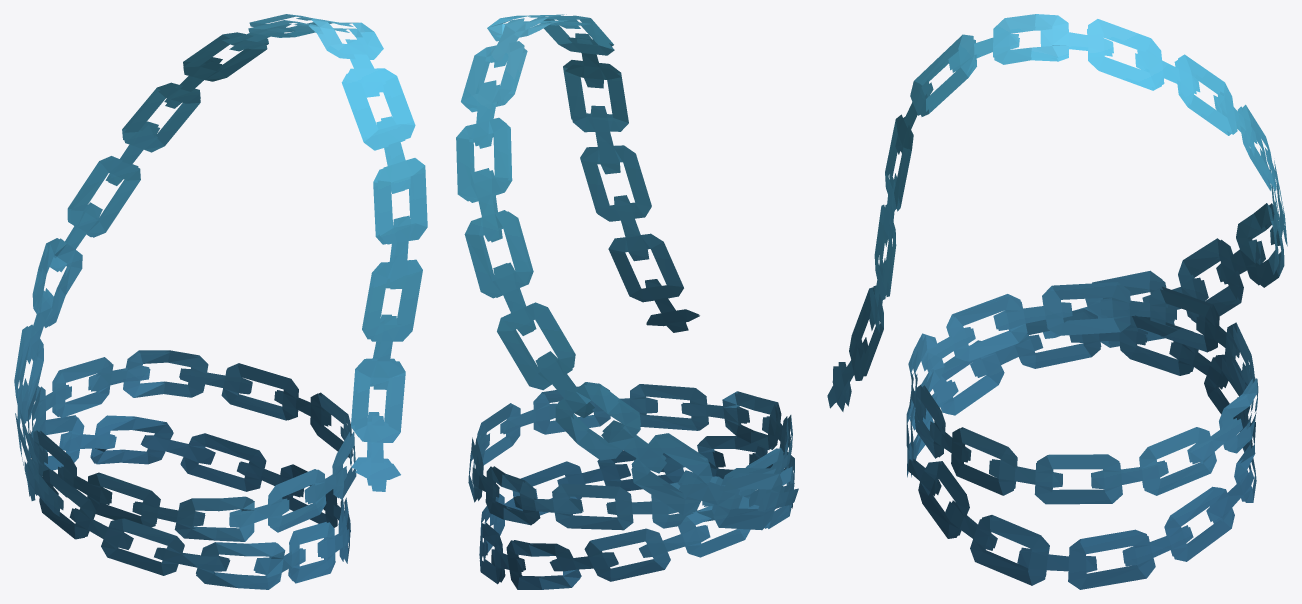
File: CharSkyNPC_Horn_StrongLaborChains.glb
The picture shows the model from 3 angles, left to right: view 1: azimuth 30°, elevation 25°; view 2: azimuth 150°, elevation 25°; view 3: azimuth 270°, elevation 25°; orthographic projection. The views are drawn at different scales.
Visible parts, largest first — view 1: CharSkyNPC_Horn_StrongLaborChains; view 2: CharSkyNPC_Horn_StrongLaborChains; view 3: CharSkyNPC_Horn_StrongLaborChains.
Boxes of the visible parts, x1,y1,x2,y2 form: CharSkyNPC_Horn_StrongLaborChains: [14, 14, 427, 589]; CharSkyNPC_Horn_StrongLaborChains: [456, 14, 798, 589]; CharSkyNPC_Horn_StrongLaborChains: [827, 14, 1287, 589].
Bounding box in the file's own units: 4.12 × 6.54 × 4.88.
Materials: 1 (1 with a texture image).
